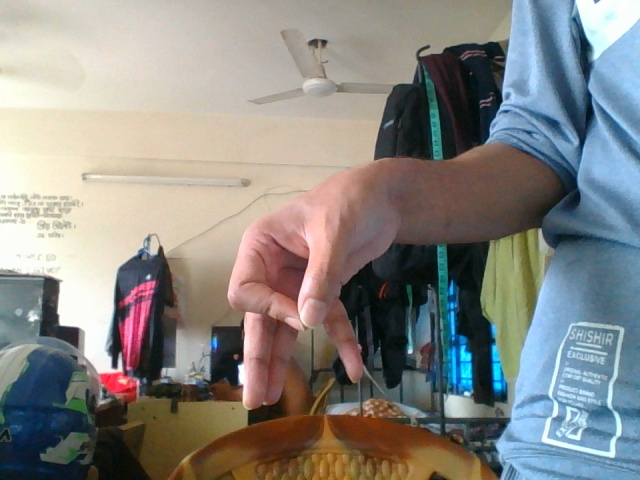pa: (223, 148, 408, 417)
